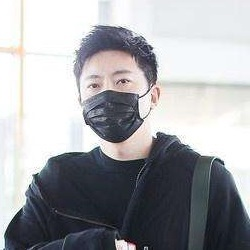mask: (75, 72, 145, 143)
